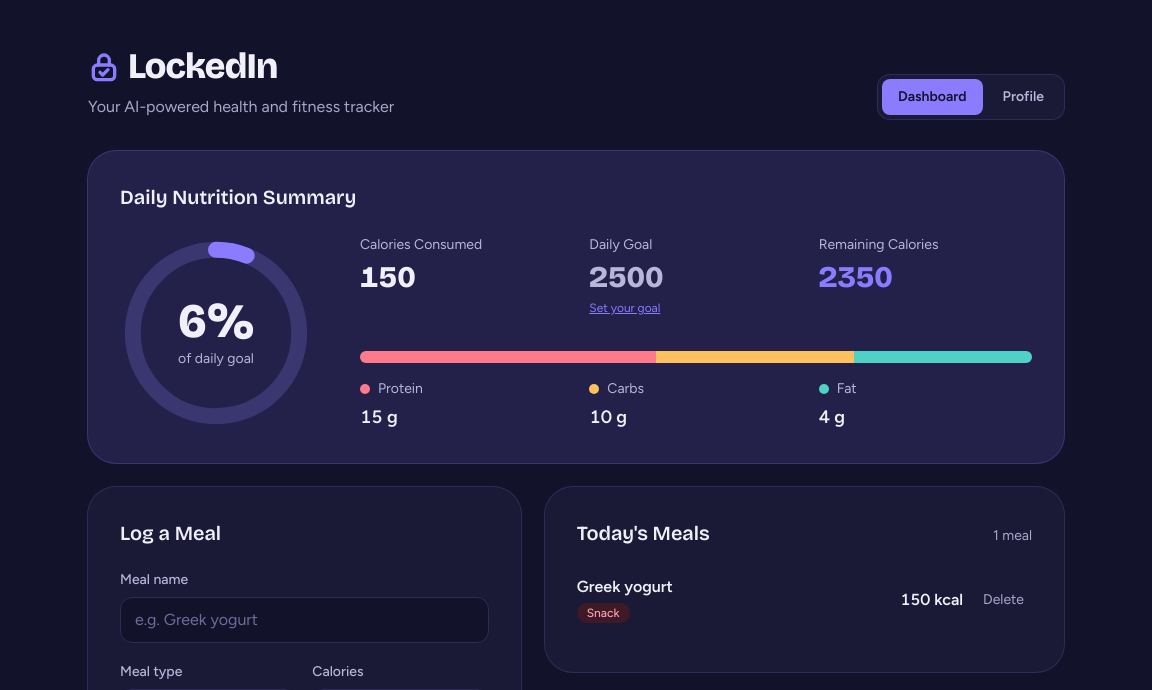
dashboard connected to the API › saves a new meal to the API and refreshes the totals
Expected: the heading "Greek yogurt" is shown, [577,575,673,599]
Type "Apple" into the field labelled "Meal name" at [304, 620], box [120,597,489,643]
(page scrolled)
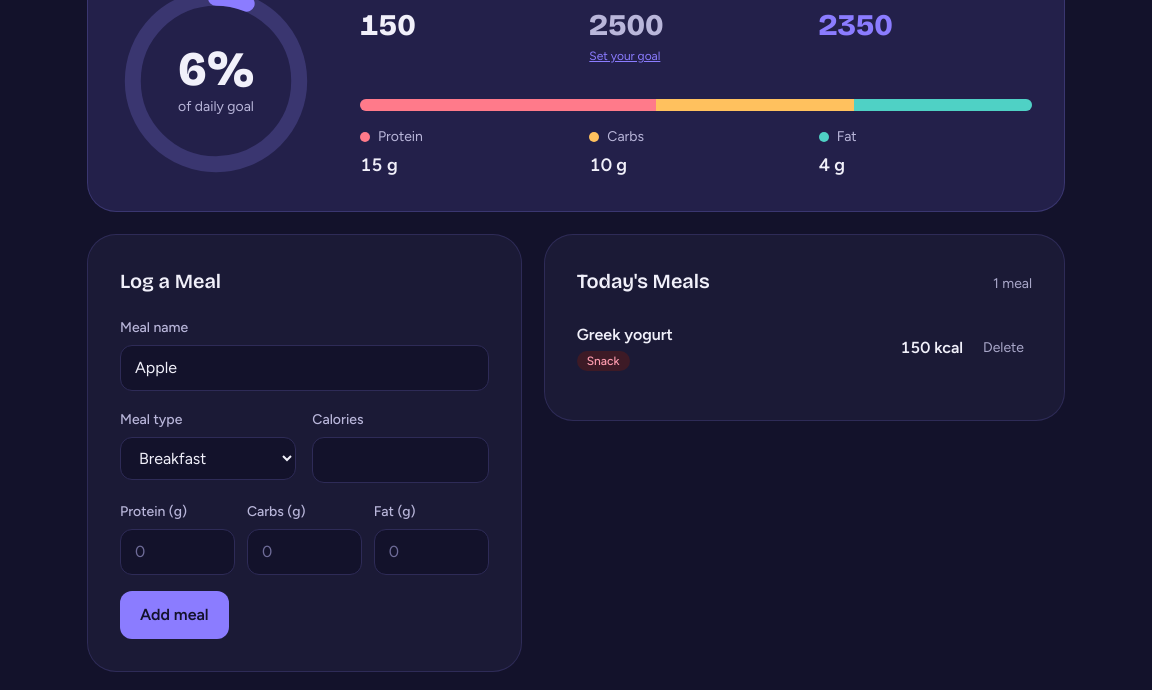
Type "95" into the number field labelled "Calories" at [401, 460], box [312,437,489,483]
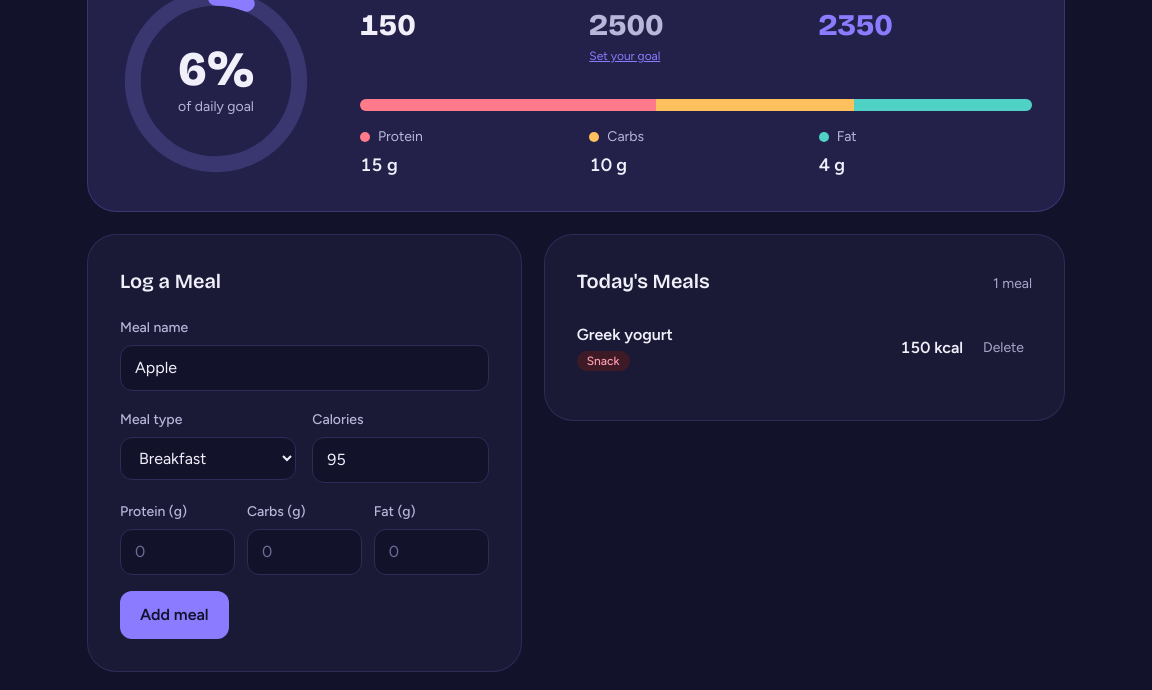
Click the button "Add meal" at [174, 615], box [120,591,229,639]
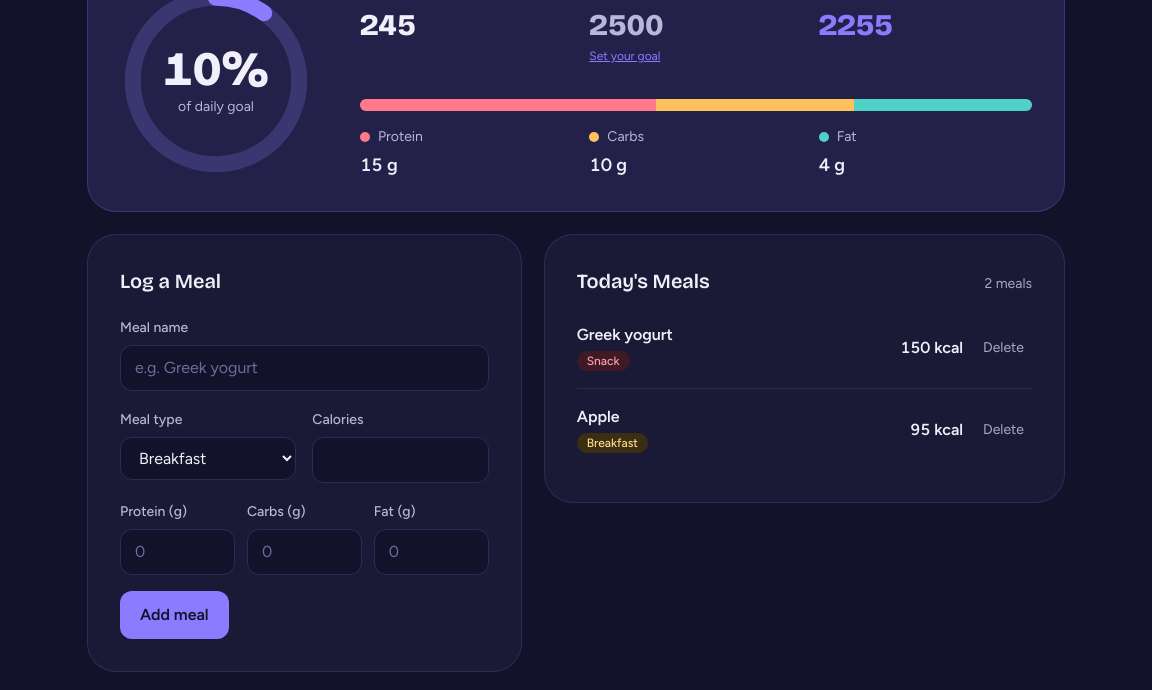
Now the heading "Apple" is shown, box [577,407,620,426]
Now the text with test id "stat-calories-consumed" reads "245", box [360,7,416,43]
